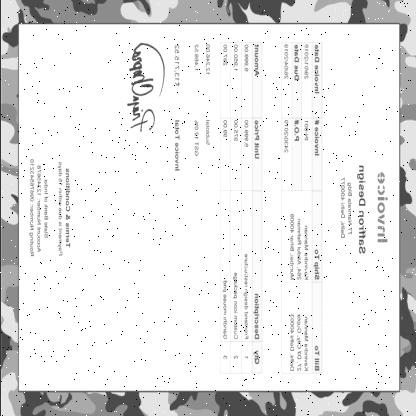Paragraph: (281, 42, 321, 191), (26, 156, 72, 262), (338, 163, 388, 256), (189, 40, 213, 161), (287, 212, 321, 282), (286, 309, 322, 373), (170, 40, 183, 175)
Table: (219, 41, 262, 374)
